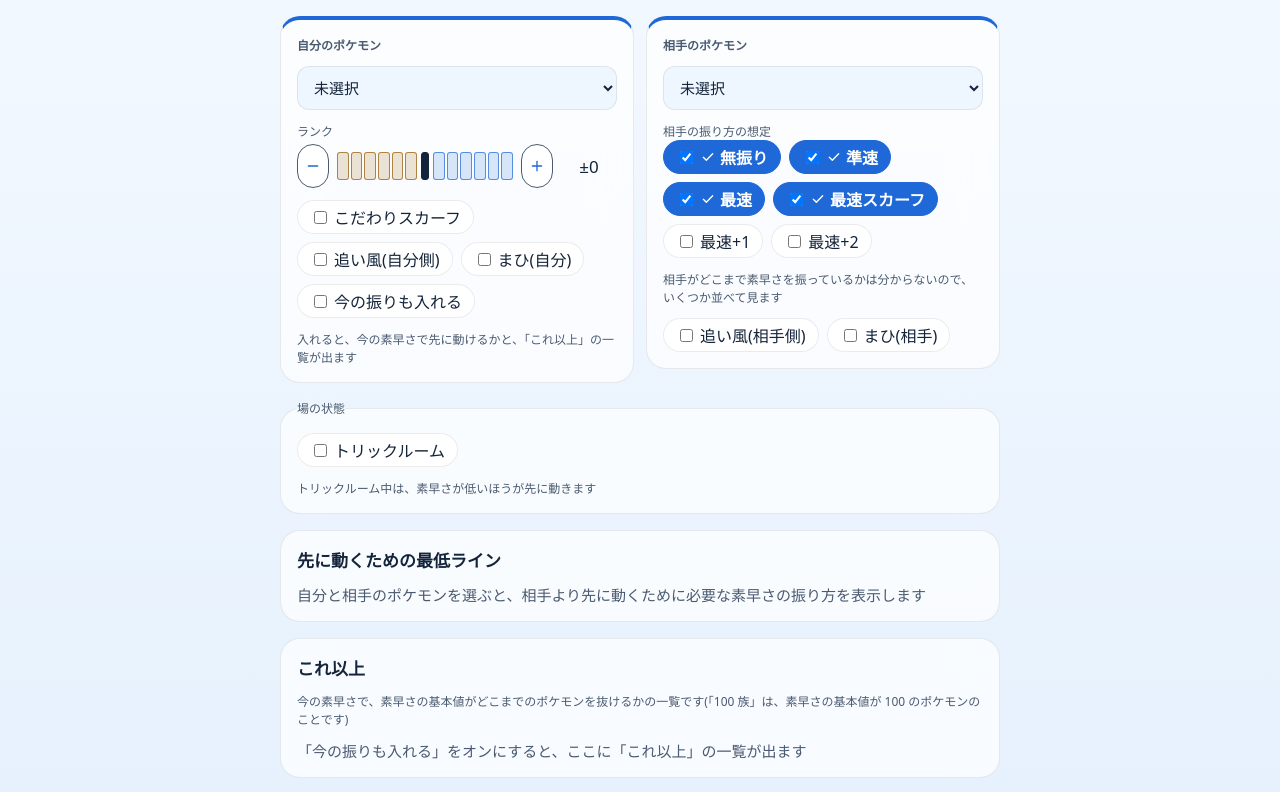
it: 素早さ画面のポケモンカードの画像 › manifest にある自分のカードは <img>、無い相手のカードはタイプ色エンブレム
Select "テストカソウドリ" in the dropdown named "自分のポケモンを選ぶ" at coordinates (457, 88), box [297,66,617,110]
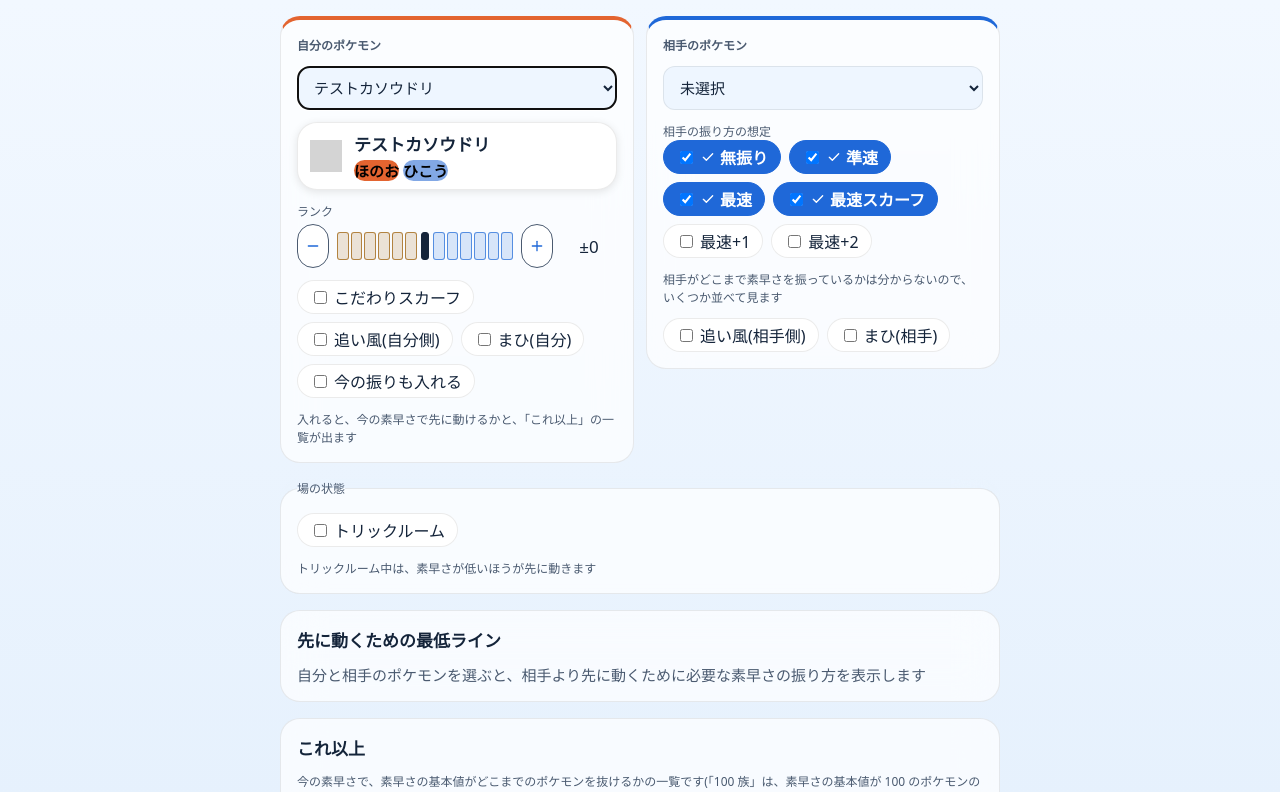
Select "テストカソウギョ" in the dropdown named "相手のポケモンを選ぶ" at coordinates (823, 88), box [663,66,983,110]
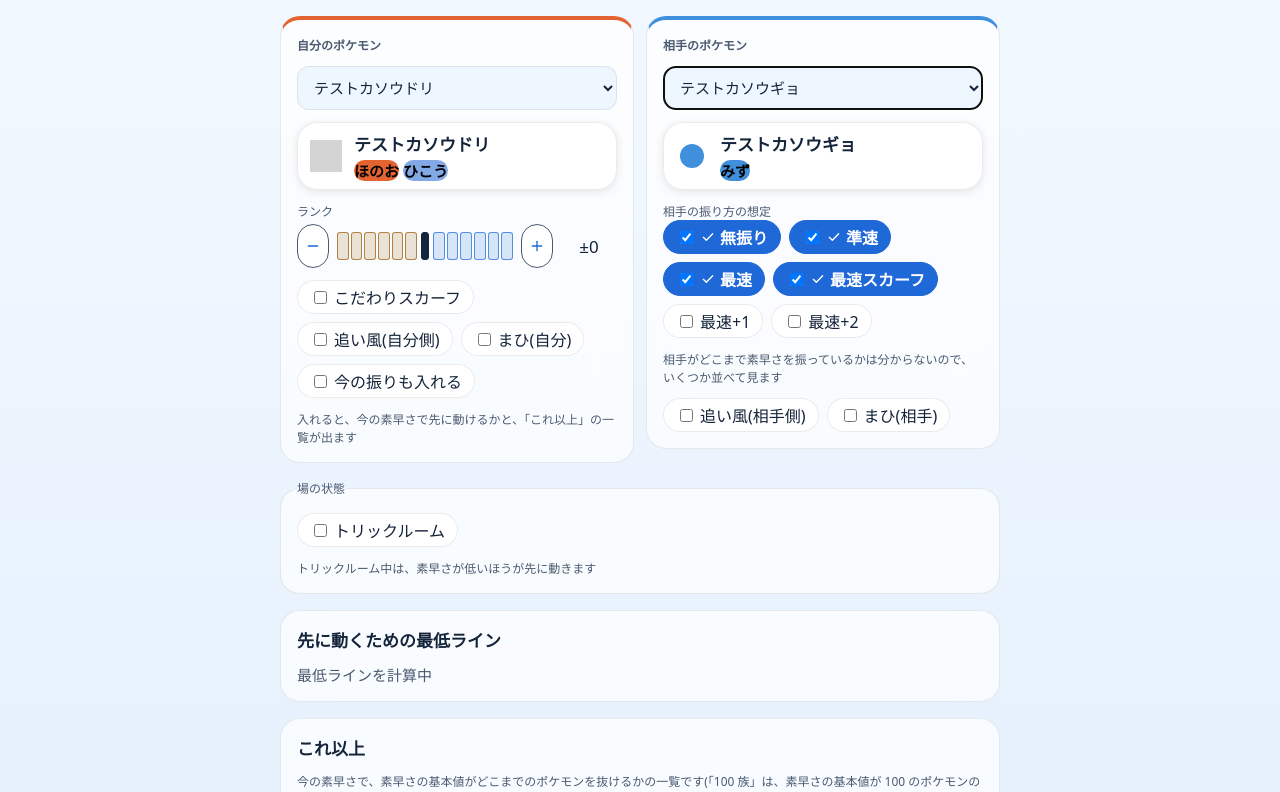
Check: the icon with test id "pokemon-icon-emblem" is shown, box [680,144,704,168]
